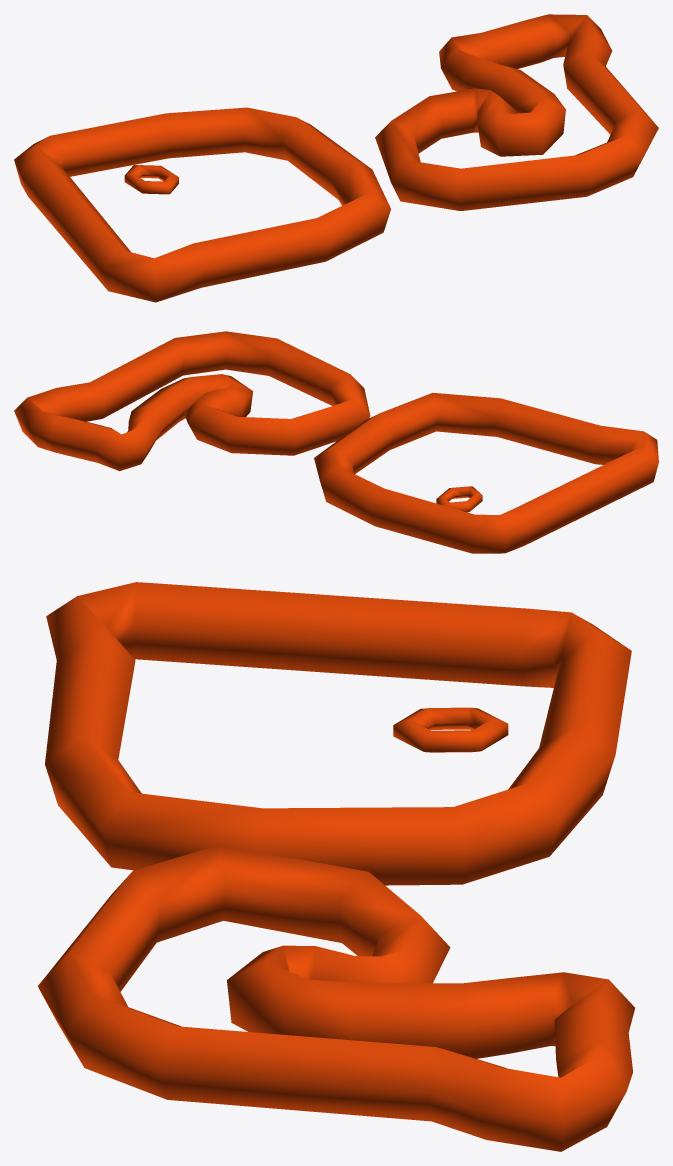
File: DJ_Neon.fbx
3 renders of one model, top to bottom at view 1: azimuth 30°, elevation 25°; view 2: azimuth 150°, elevation 25°; view 3: azimuth 270°, elevation 25°, orthographic. The views are drawn at different scales.
Parts seen in each view (by area): view 1: polySurface46; view 2: polySurface46; view 3: polySurface46.
Boxes of the visible parts, left/top/right/bottom form: polySurface46: left=14, top=14, right=658, bottom=302; polySurface46: left=14, top=331, right=658, bottom=553; polySurface46: left=37, top=582, right=634, bottom=1151.
Bounding box in the file's own units: 9.67 × 0.6786 × 4.65.
